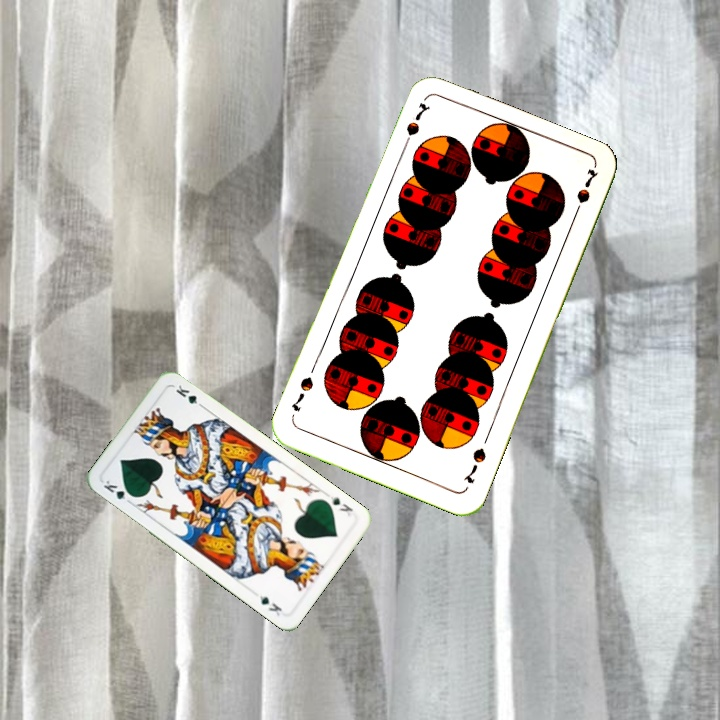GK: (99, 476, 137, 506), (326, 492, 356, 519)
S7: (398, 98, 433, 153), (459, 444, 489, 486)
